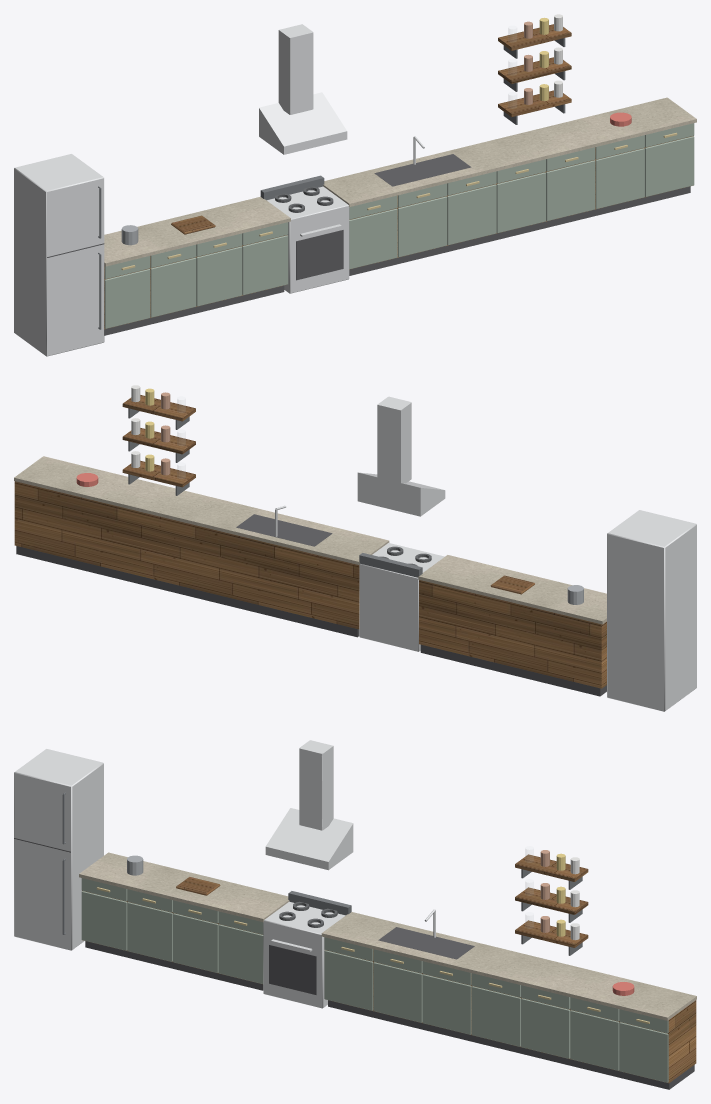
The model's file is kitchen.glb.
3 views of the same model, one above another, from view 1: azimuth 30°, elevation 25°; view 2: azimuth 150°, elevation 25°; view 3: azimuth 330°, elevation 25° (orthographic).
Parts seen in each view (by area): view 1: kitchen_cab_g, kitchen_chrome, kitchen_stone, kitchen_dark, kitchen_timber, kitchen_steel_d, kitchen_cab, kitchen_iron; view 2: kitchen_cab, kitchen_chrome, kitchen_stone, kitchen_dark, kitchen_timber, kitchen_steel_d; view 3: kitchen_cab_g, kitchen_chrome, kitchen_stone, kitchen_dark, kitchen_timber, kitchen_cab, kitchen_steel_d.
Part boxes in pixels (x1,y1,x2,y2): kitchen_cab_g: (104,123,694,328); kitchen_chrome: (14,24,424,356); kitchen_stone: (104,97,696,266); kitchen_dark: (47,154,690,335); kitchen_timber: (171,24,571,234); kitchen_steel_d: (98,38,565,329); kitchen_cab: (104,136,693,329); kitchen_iron: (275,186,333,212); kitchen_cab: (14,481,606,688); kitchen_chrome: (275,396,696,711); kitchen_stone: (14,456,606,624); kitchen_dark: (16,514,606,696); kitchen_timber: (122,395,534,594); kitchen_steel_d: (128,408,422,577); kitchen_cab_g: (81,878,668,1082); kitchen_chrome: (14,740,435,1008); kitchen_stone: (79,852,696,1020); kitchen_dark: (14,838,694,1089); kitchen_timber: (176,854,588,947); kitchen_cab: (82,890,696,1083); kitchen_steel_d: (62,792,582,955).
Bounding box in the file's own units: 8.26 × 2.88 × 0.7674.
15 materials, 3 textured.
